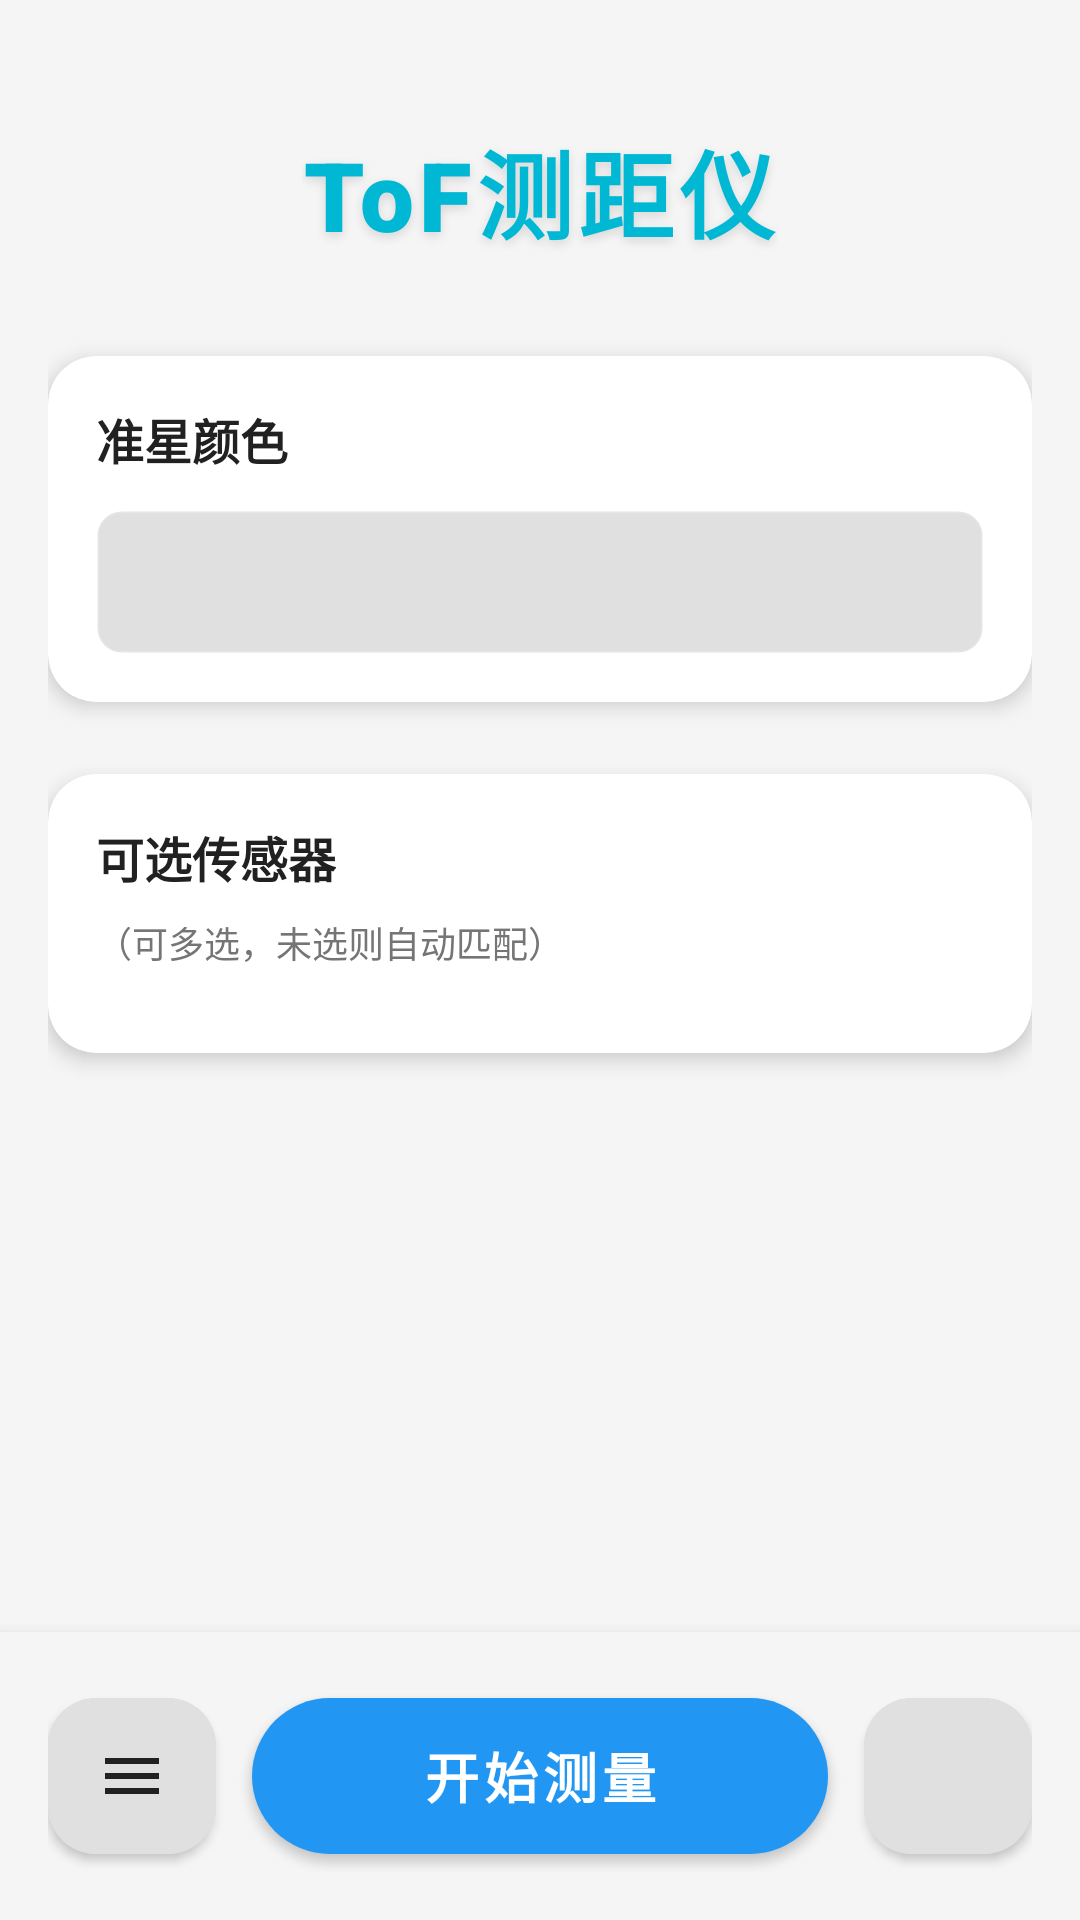

Point at icon controls on the screen. Image size 1080 × 1920, points as point (x, y).
list: point (132, 1781)
